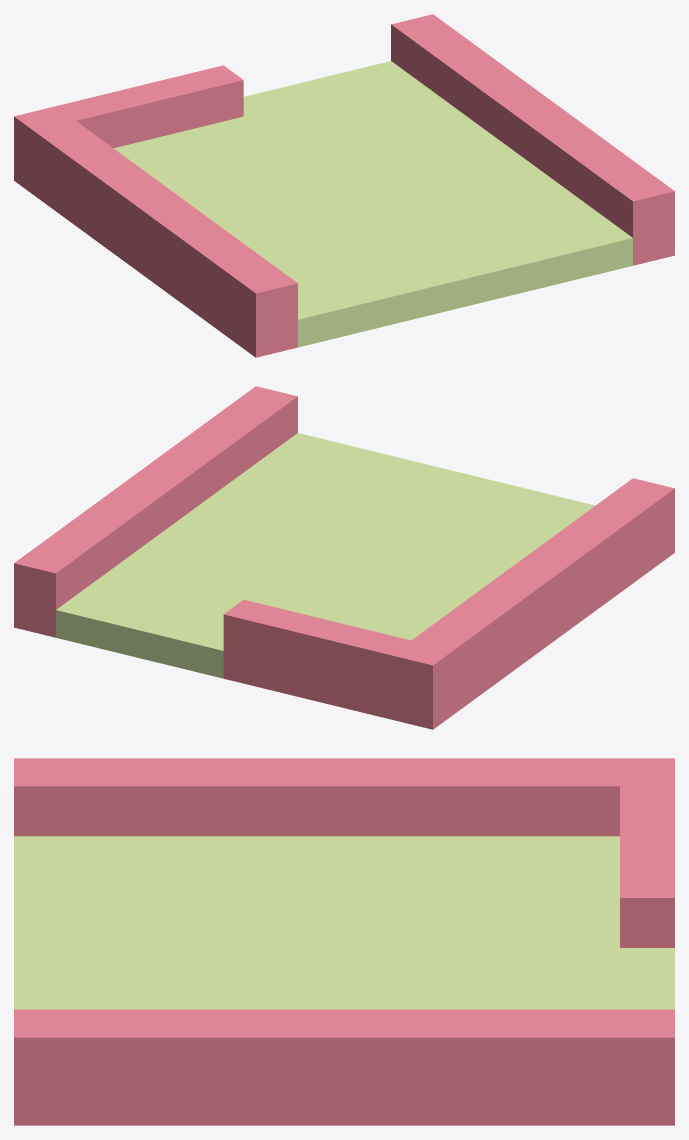
File: wallRight.fbx
3 renders of one model, top to bottom at view 1: azimuth 30°, elevation 25°; view 2: azimuth 150°, elevation 25°; view 3: azimuth 270°, elevation 25°, orthographic. The views are drawn at different scales.
Visible parts, largest first — view 1: wallRight; view 2: wallRight; view 3: wallRight.
Boxes of the visible parts, box(x1,y1,x2,y2) form: wallRight: box(14, 14, 674, 357); wallRight: box(14, 386, 674, 729); wallRight: box(14, 758, 674, 1125).
Size of the model in its own units: 99.99 by 14.67 by 99.99.
